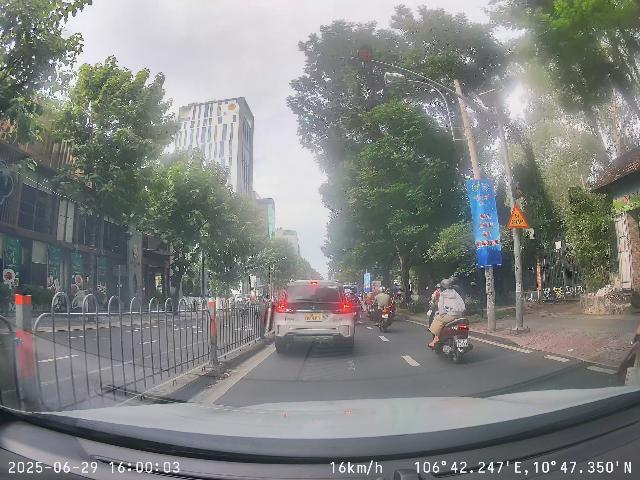245-di-cham: (507, 204, 529, 228)
